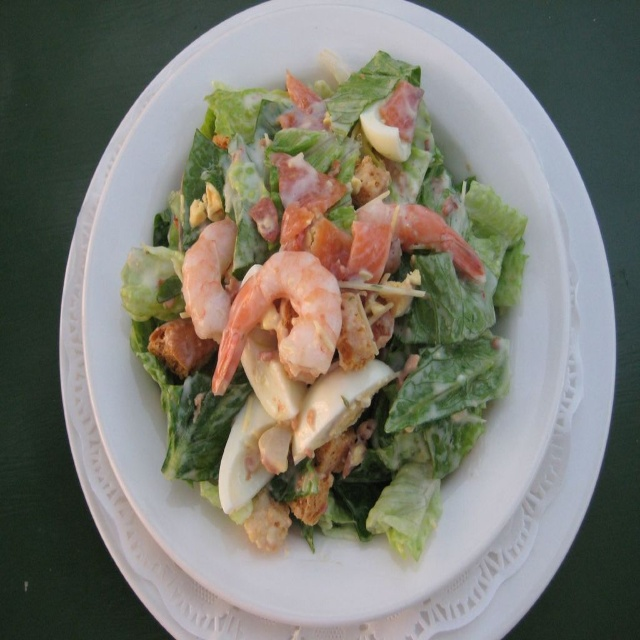Shrimp: (147, 49, 487, 554)
